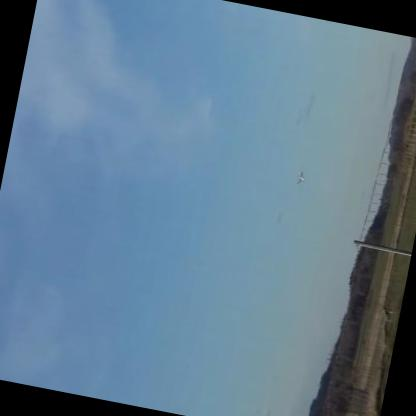plane: (295, 167, 308, 185)
